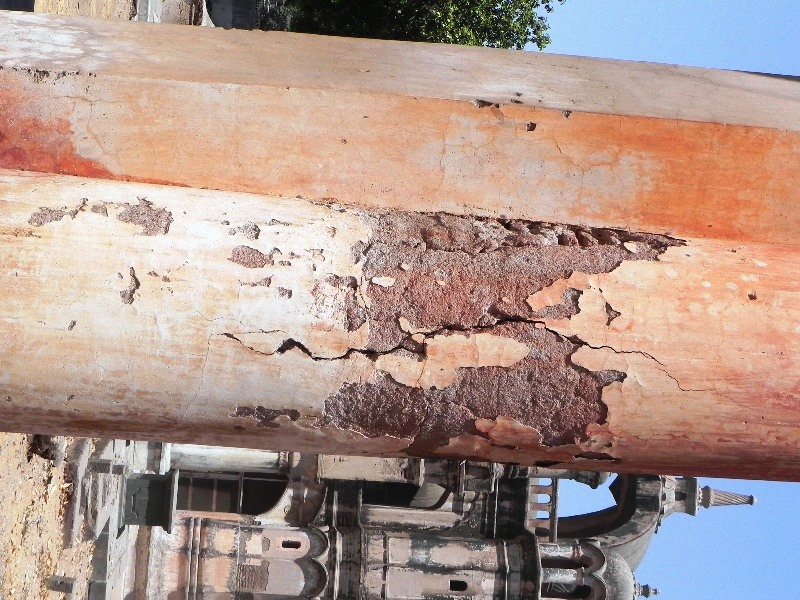Crack: (211, 315, 670, 368)
Exposed Bricks: (419, 212, 649, 250)
Spalling: (303, 372, 650, 465)
